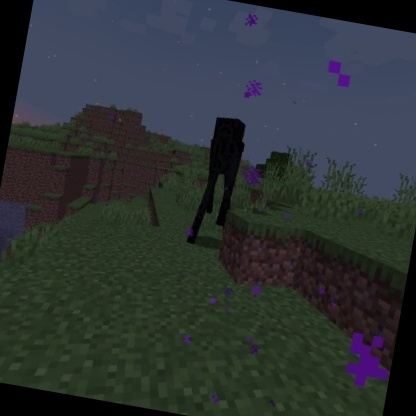enderman: (183, 112, 252, 253)
